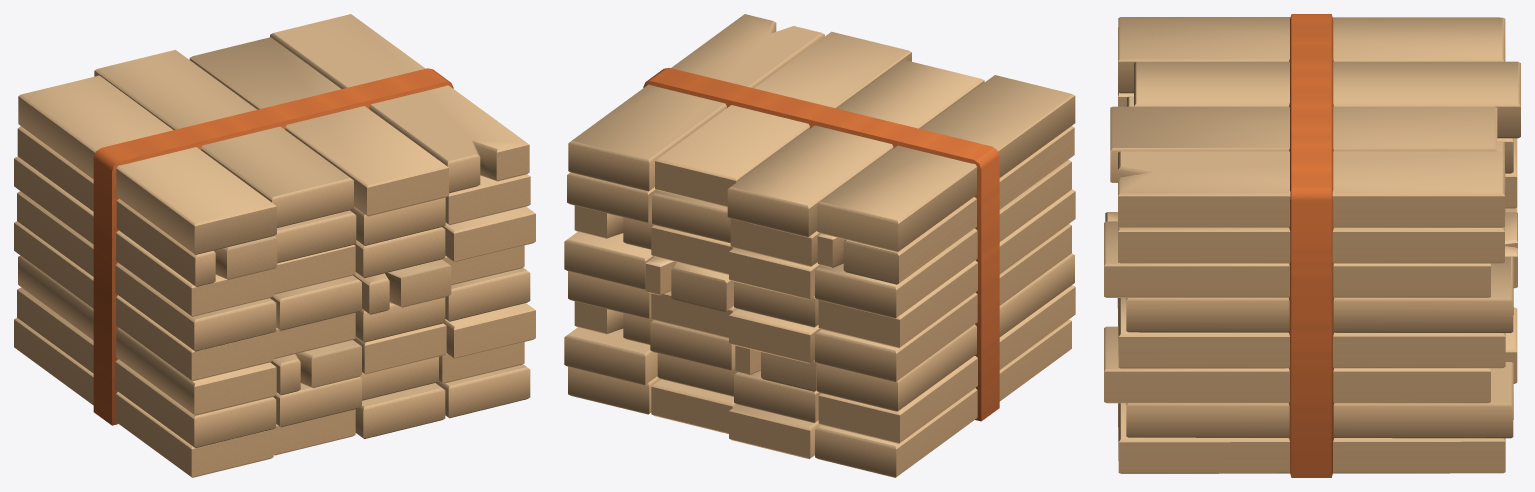
File: Wood_Planks_Stack_Large.gltf
3 renders of one model, left to right at view 1: azimuth 30°, elevation 25°; view 2: azimuth 150°, elevation 25°; view 3: azimuth 270°, elevation 25°, orthographic. The views are drawn at different scales.
Visible parts, largest first — view 1: Wood_Planks_Stack_Large; view 2: Wood_Planks_Stack_Large; view 3: Wood_Planks_Stack_Large.
Boxes of the visible parts, x1,y1,x2,y2 form: Wood_Planks_Stack_Large: (14,14,535,477); Wood_Planks_Stack_Large: (564,14,1075,477); Wood_Planks_Stack_Large: (1104,14,1520,477).
Bounding box in the file's own units: 1.67 × 1.22 × 1.62.
1 material, 1 textured.
